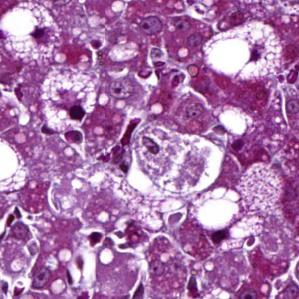ballooning: (132, 121, 224, 194), (200, 16, 286, 87), (41, 67, 98, 134), (3, 4, 61, 66)
